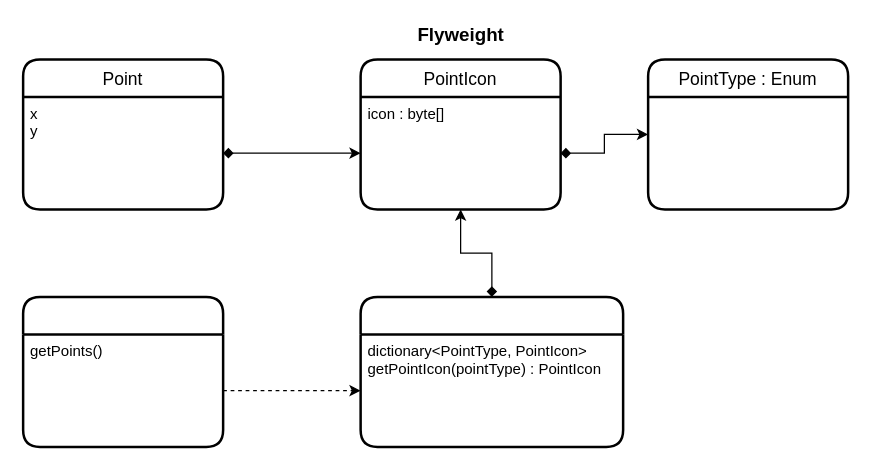
This 870x469 diagram has some shape labels left out. Here are the shapes that lost their labels. From the top down, the box of each, then its label:
(21, 295, 224, 448): PointService
(359, 295, 624, 448): PointFactory
